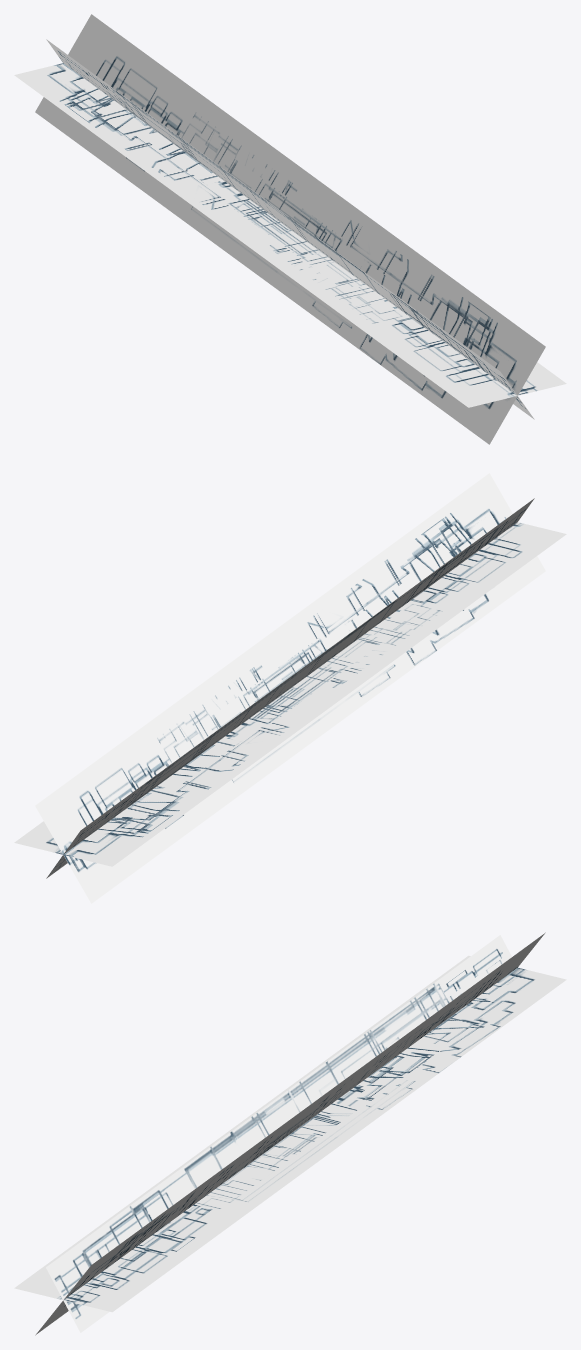
Rendered from VFX_Scale.fbx.
3 renders of one model, top to bottom at view 1: azimuth 30°, elevation 25°; view 2: azimuth 150°, elevation 25°; view 3: azimuth 330°, elevation 25°, orthographic.
Parts seen in each view (by area): view 1: VFX_Scale; view 2: VFX_Scale; view 3: VFX_Scale.
Boxes of the visible parts, left/top/right/bottom form: VFX_Scale: left=14, top=14, right=566, bottom=444; VFX_Scale: left=14, top=473, right=566, bottom=903; VFX_Scale: left=14, top=932, right=566, bottom=1335.
Bounding box in the file's own units: 50 × 40.96 × 400.
Materials: 1 (1 with a texture image).
